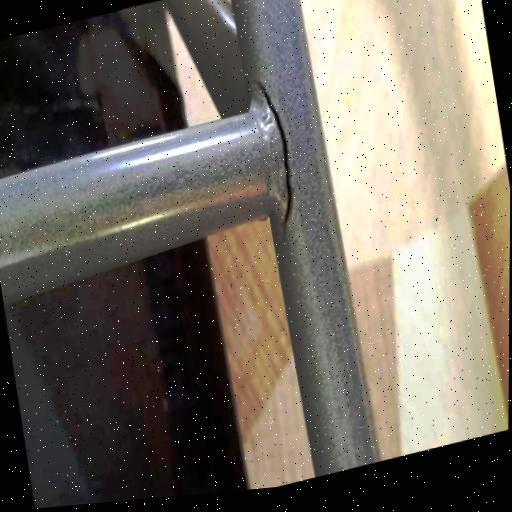crack: (233, 59, 311, 247)
